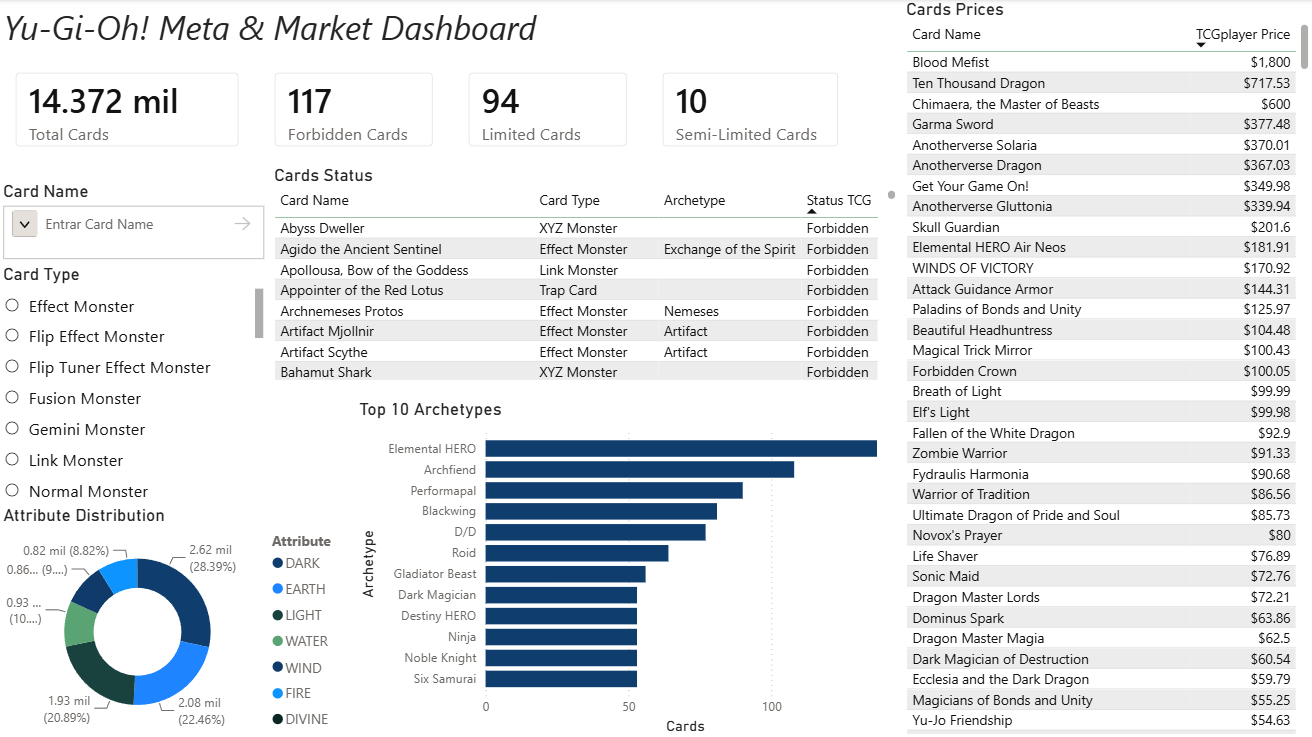

Layout of this report page (visuals, bound fields, positions):
{"tool":"powerbi","page":{"name":"Página 1","canvas":[1280,720],"ordinal":0},"visuals":[{"type":"barChart","title":"Top 10 Archetypes","fields":{"Category":["analytics dim_cards.archetype"],"Y":["CountNonNull(analytics dim_cards.card_id)"]},"box":[346.3,389.1,532,330.7],"z":1000},{"type":"tableEx","title":"Cards price","fields":{"Values":["analytics dim_cards.card_name","Max(analytics fct_card_prices.tcgplayer_price)"]},"box":[878.3,0,401.7,719.8],"z":2000},{"type":"donutChart","title":"Attribute distribution","fields":{"Category":["analytics dim_cards.attribute"],"Y":["CountNonNull(analytics dim_cards.card_id)"]},"box":[0,492.2,346.3,227.6],"z":3000},{"type":"textbox","box":[0,0,569.2,54.8],"z":4000},{"type":"textSlicer","title":"Card Name","fields":{"Values":["analytics dim_cards.card_name"]},"box":[0,177,263.6,80.7],"z":4001},{"type":"listSlicer","title":"Card Type","fields":{"Values":["analytics dim_cards.card_type"]},"box":[0,257.8,263.6,234.4],"z":4002},{"type":"cardVisual","fields":{"Data":["CountNonNull(analytics dim_cards.card_id)"]},"box":[0,54.5,251.9,107],"z":4003},{"type":"cardVisual","fields":{"Data":["analytics fct_banlist.Forbidden Count"]},"box":[251.9,54.5,188.7,107],"z":4005},{"type":"cardVisual","fields":{"Data":["analytics fct_banlist.Limited Count"]},"box":[440.6,54.5,188.7,107],"z":4006},{"type":"cardVisual","fields":{"Data":["analytics fct_banlist.Semi-Limited Count"]},"box":[629.3,54.5,205.2,107],"z":4007},{"type":"tableEx","title":"Cards status","fields":{"Values":["analytics dim_cards.card_name","analytics dim_cards.card_type","analytics dim_cards.archetype","analytics fct_banlist.status_tcg"]},"box":[263.6,161.5,614.7,214],"z":4008}]}

Visuals, with their boxes in screenshot pixels (x1, y1, x2, y2), scaled from the page's 1280x720 canvas onto the 1312x737 screenshot:
"Top 10 Archetypes" barChart: [left=355, top=398, right=900, bottom=736]
"Cards price" tableEx: [left=900, top=0, right=1311, bottom=736]
"Attribute distribution" donutChart: [left=0, top=504, right=355, bottom=736]
textbox: [left=0, top=0, right=583, bottom=56]
"Card Name" textSlicer: [left=0, top=181, right=270, bottom=264]
"Card Type" listSlicer: [left=0, top=264, right=270, bottom=504]
cardVisual - CountNonNull(analytics dim_cards.card_id): [left=0, top=56, right=258, bottom=165]
cardVisual - analytics fct_banlist.Forbidden Count: [left=258, top=56, right=452, bottom=165]
cardVisual - analytics fct_banlist.Limited Count: [left=452, top=56, right=645, bottom=165]
cardVisual - analytics fct_banlist.Semi-Limited Count: [left=645, top=56, right=855, bottom=165]
"Cards status" tableEx: [left=270, top=165, right=900, bottom=384]
